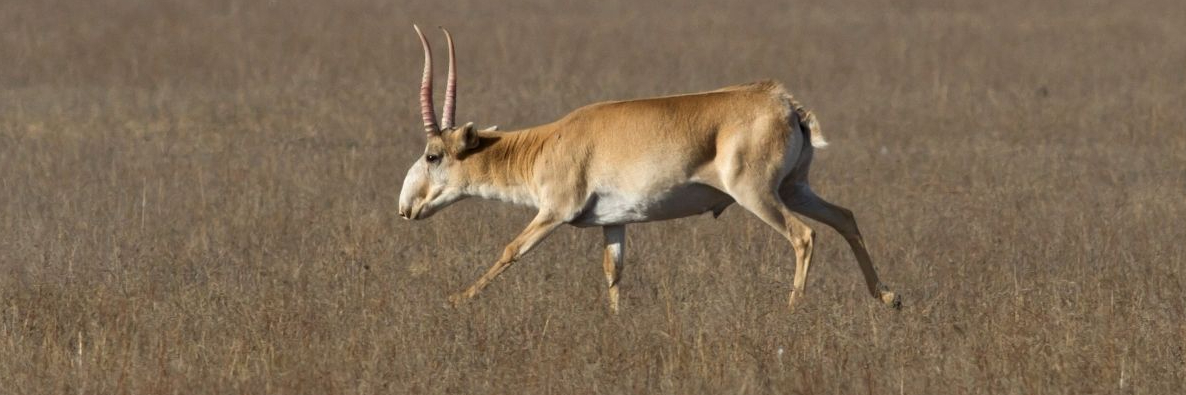saiga: (368, 21, 903, 354)
